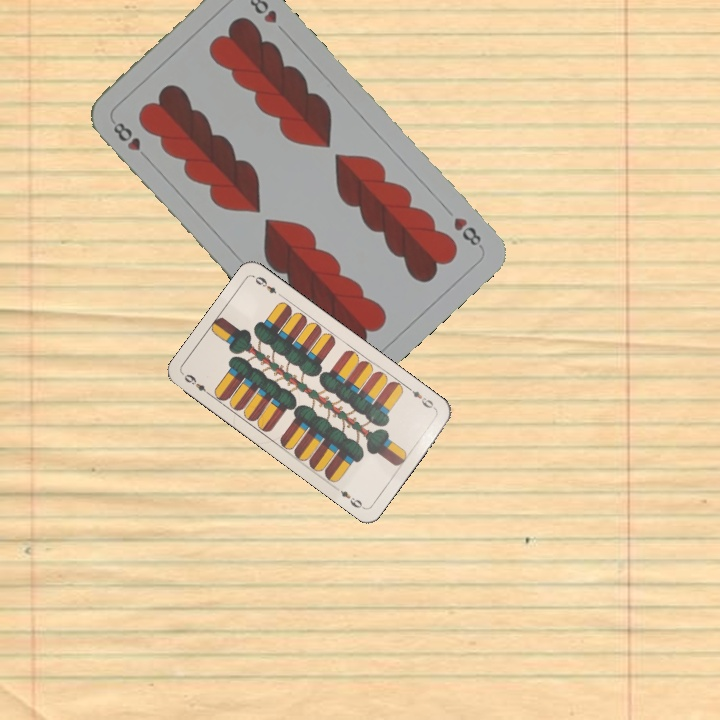E9: (404, 383, 439, 412), (180, 370, 214, 399)
H8: (109, 118, 152, 163), (449, 213, 486, 251)
